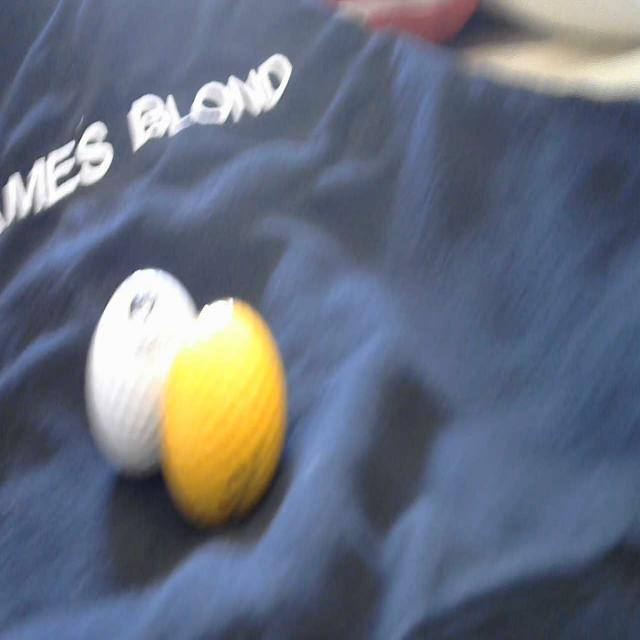golfball: (160, 297, 290, 538), (85, 261, 198, 478)
